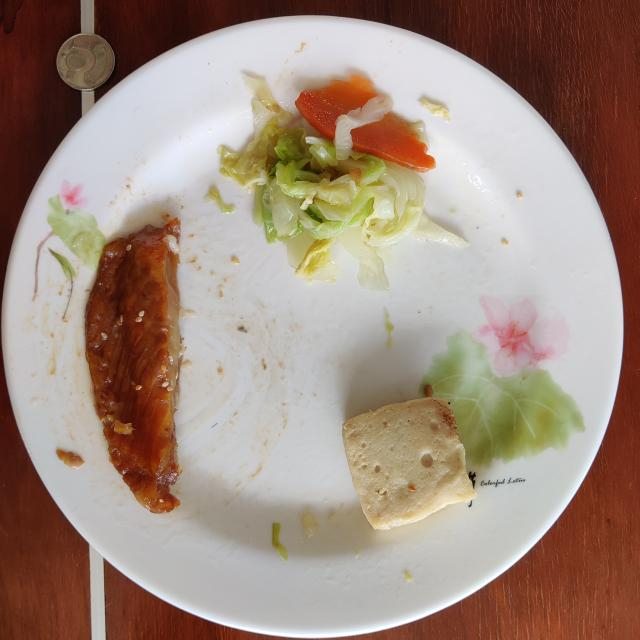Kabayaki sea bream fillet: (86, 218, 181, 512)
cabbage: (218, 75, 468, 290)
coin: (56, 34, 115, 91)
creamy tofu -without sauce-: (342, 398, 476, 530)
